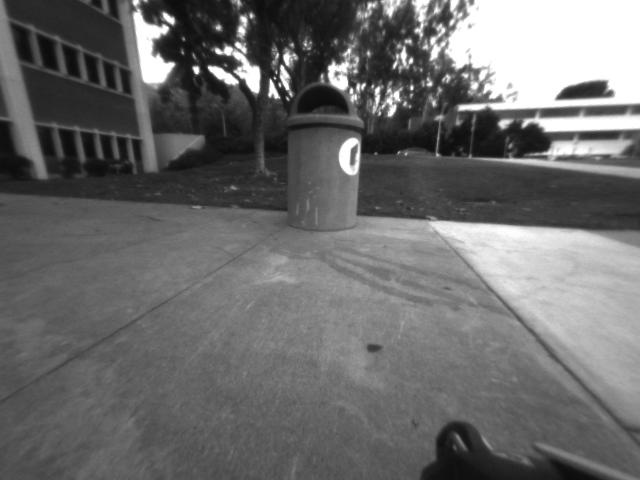trashcan: (280, 74, 370, 237)
